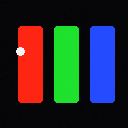0 point: (16, 47, 24, 55)
